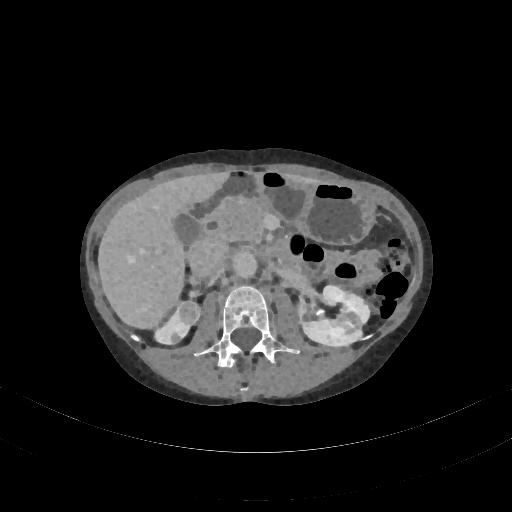Lesion: (175, 300, 201, 330)
